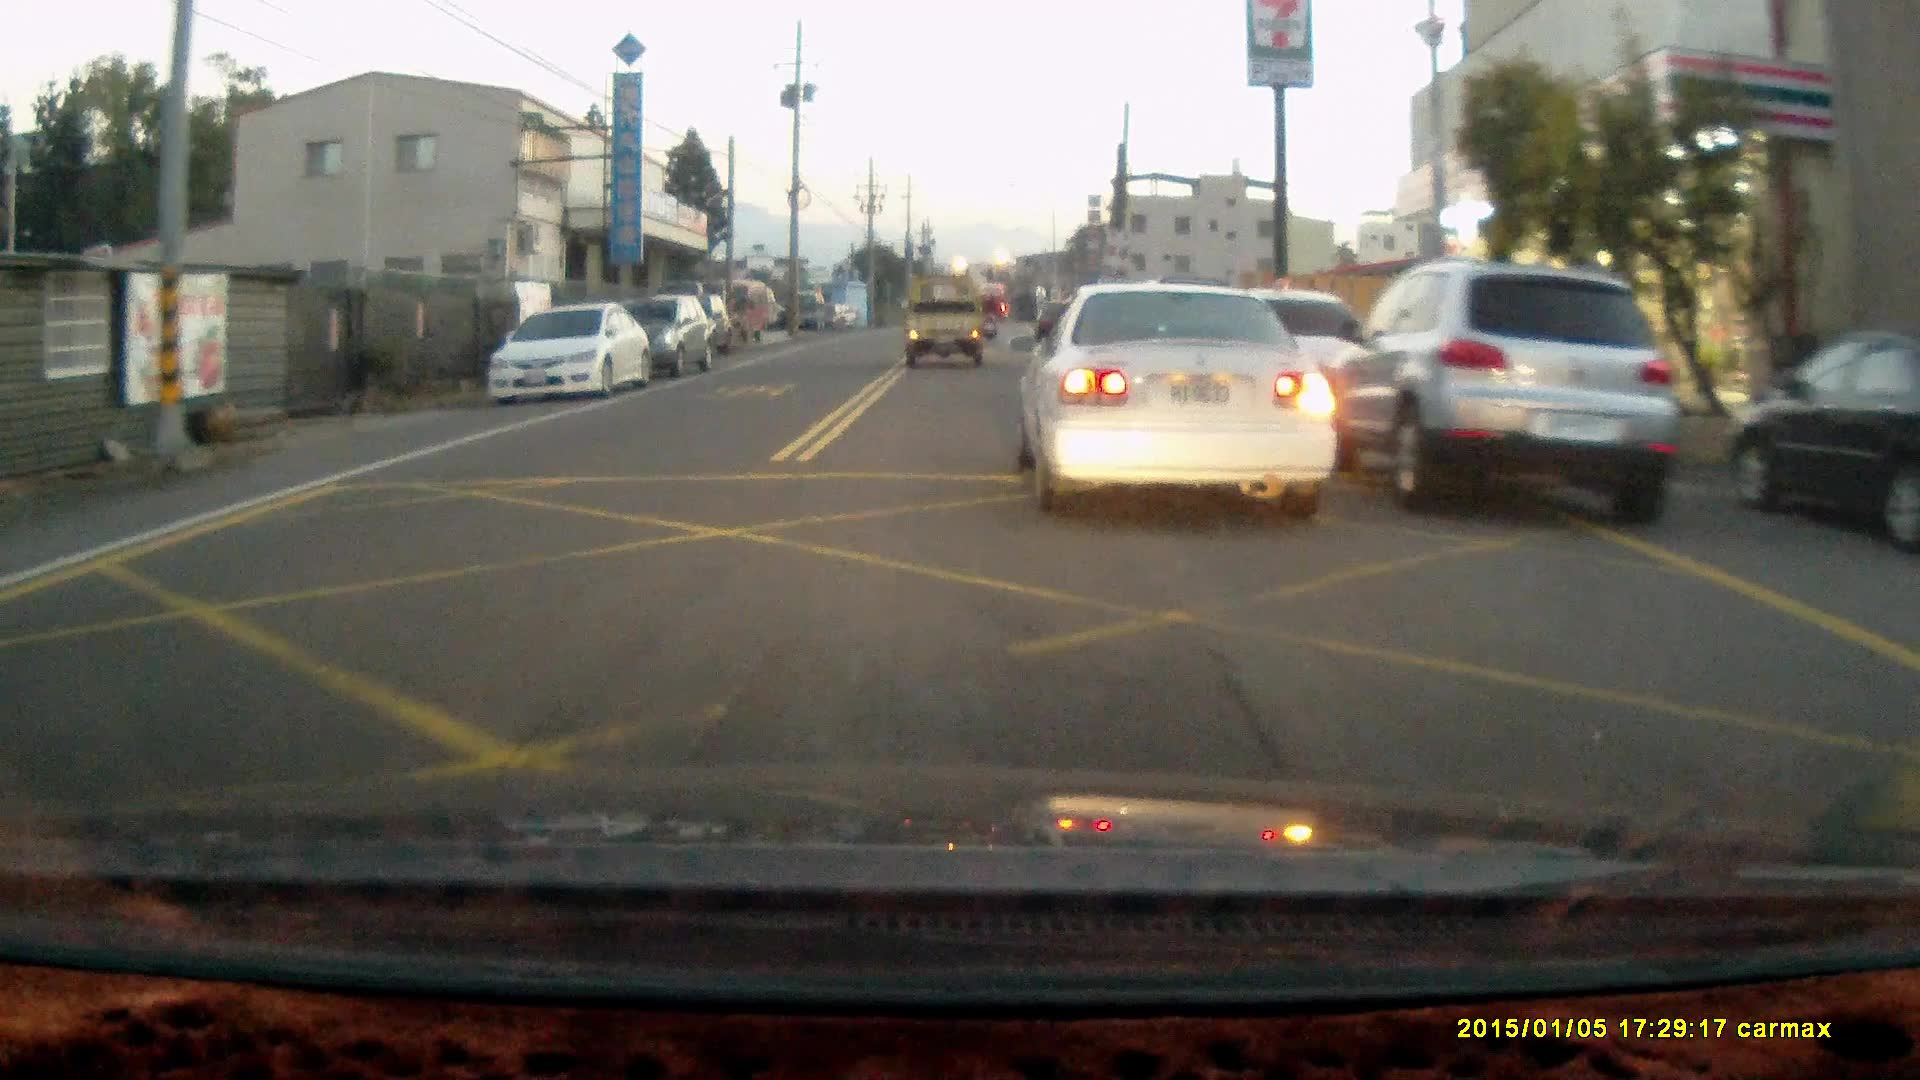rider: (977, 289, 1003, 338)
vehicle: (1313, 263, 1688, 525), (1018, 277, 1338, 507), (1727, 327, 1918, 537), (487, 296, 653, 405), (901, 271, 988, 365), (614, 295, 713, 377)
